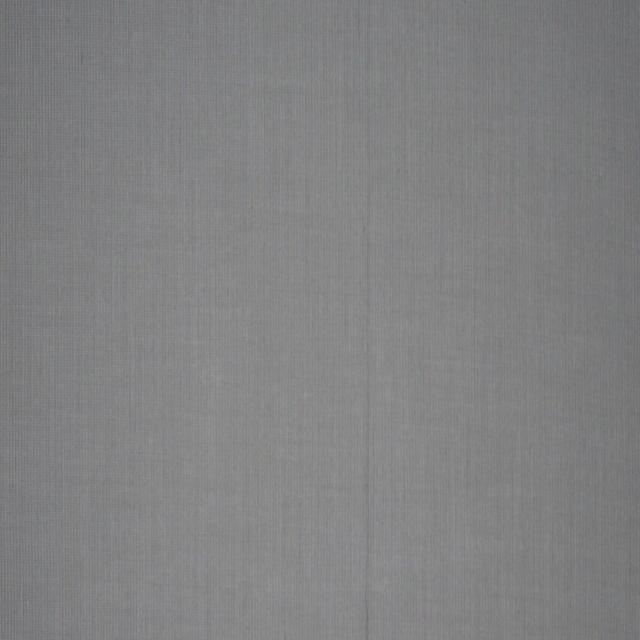dirty: (80, 48, 84, 69)
